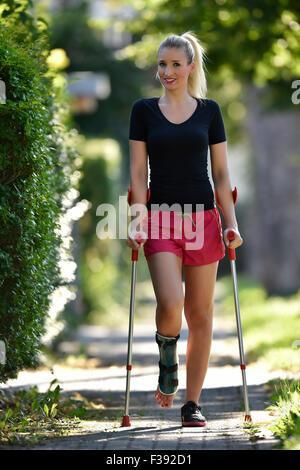crutches: (109, 25, 260, 437)
